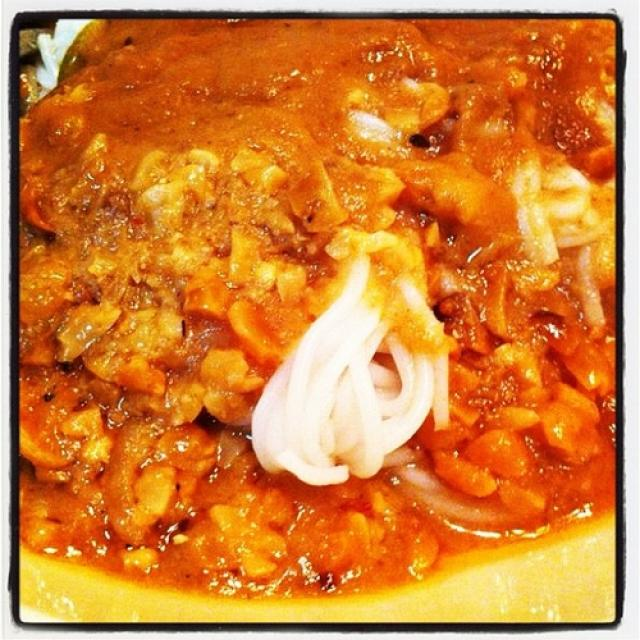面条主食: (19, 15, 612, 608)
